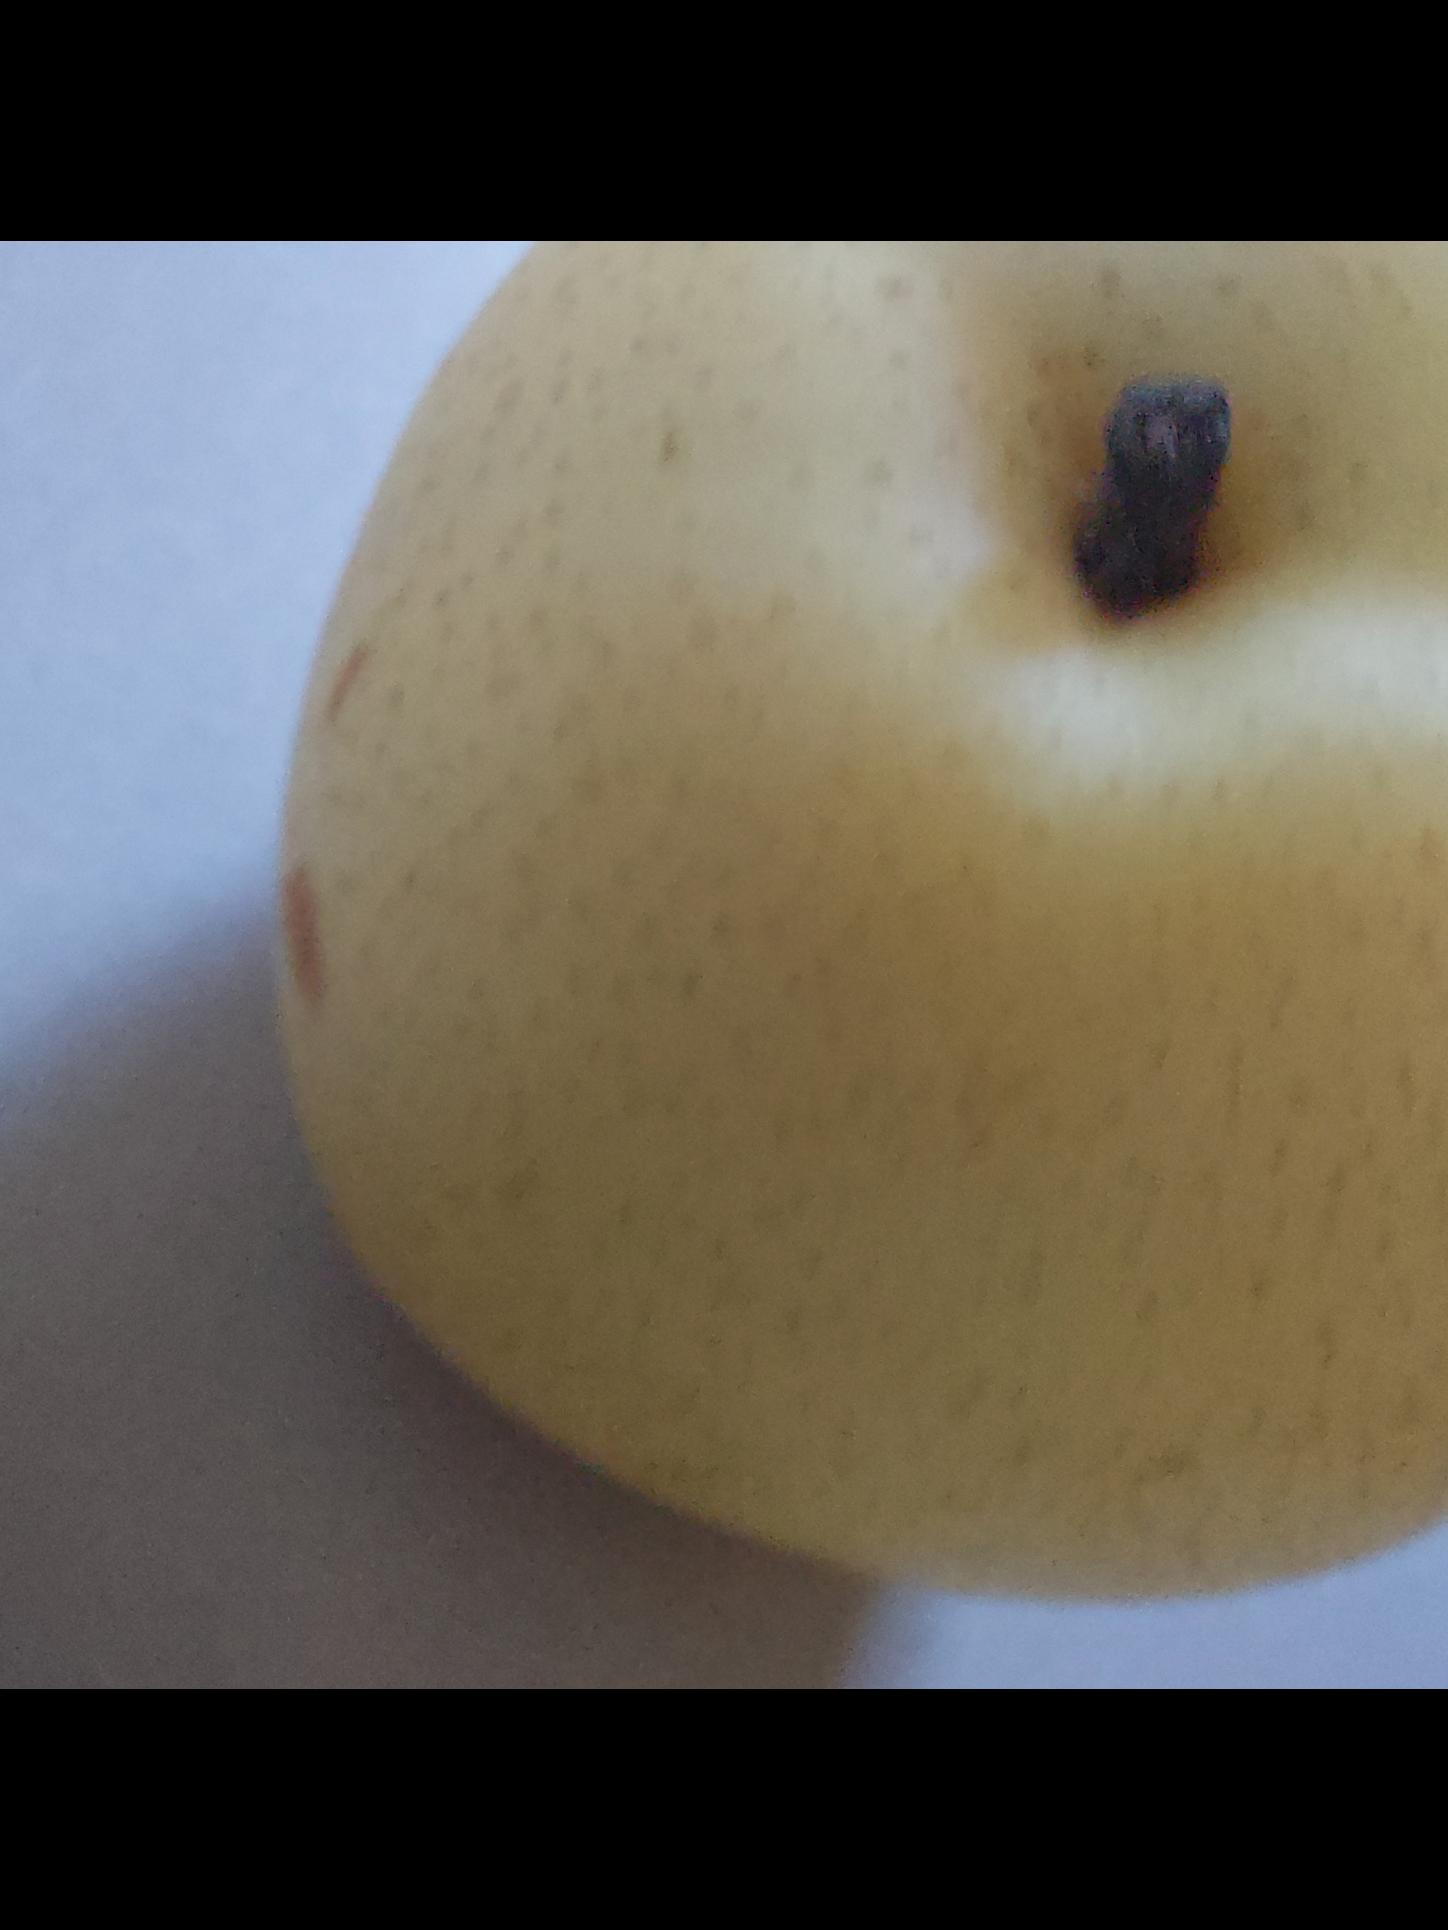Good Pear: (175, 240, 1448, 1690)
